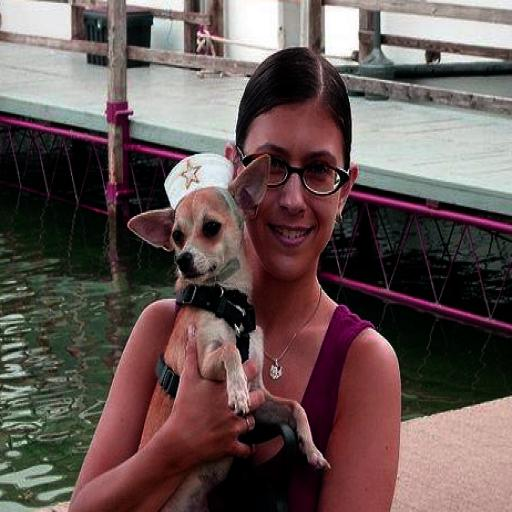dog_face: (142, 165, 279, 390)
